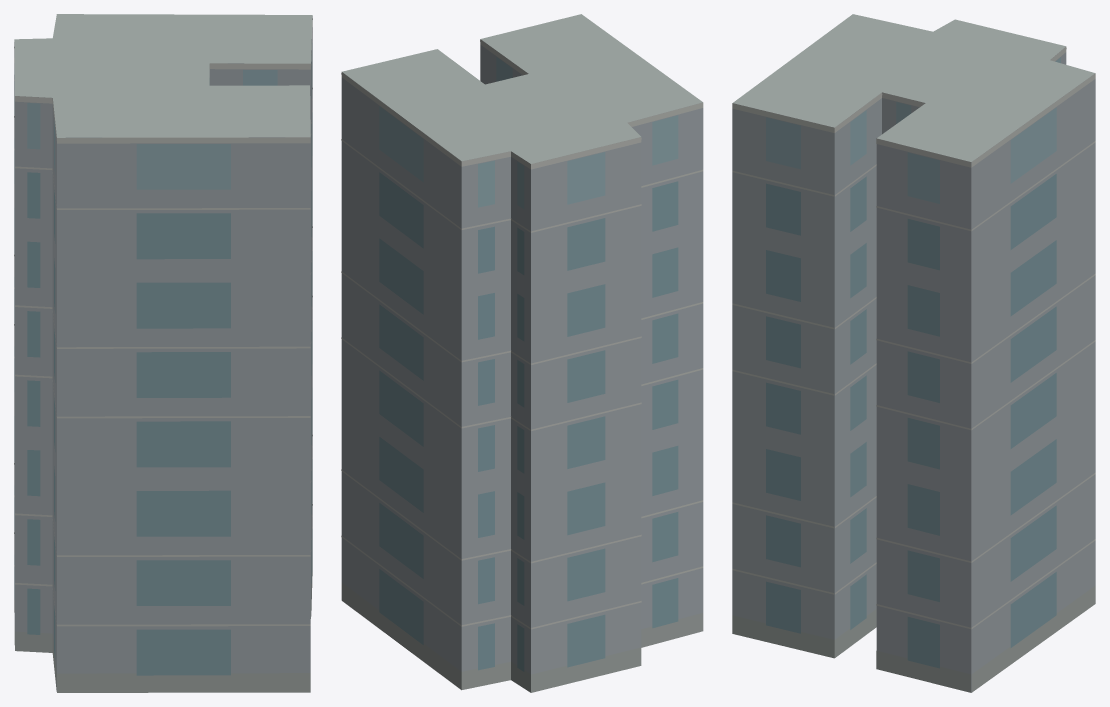
The model's file is survey-upis-33002588.glb.
3 views of the same model, side by side, from view 1: azimuth 30°, elevation 25°; view 2: azimuth 150°, elevation 25°; view 3: azimuth 270°, elevation 25° (orthographic). The views are drawn at different scales.
Visible parts, largest first — view 1: survey-upis-33002588.tmp; view 2: survey-upis-33002588.tmp; view 3: survey-upis-33002588.tmp.
Boxes of the visible parts, <box> form: survey-upis-33002588.tmp: <box>14,14,312,692</box>; survey-upis-33002588.tmp: <box>341,14,703,692</box>; survey-upis-33002588.tmp: <box>732,14,1095,692</box>.
Size of the model in its own units: 13.97 by 23.3 by 14.47.
